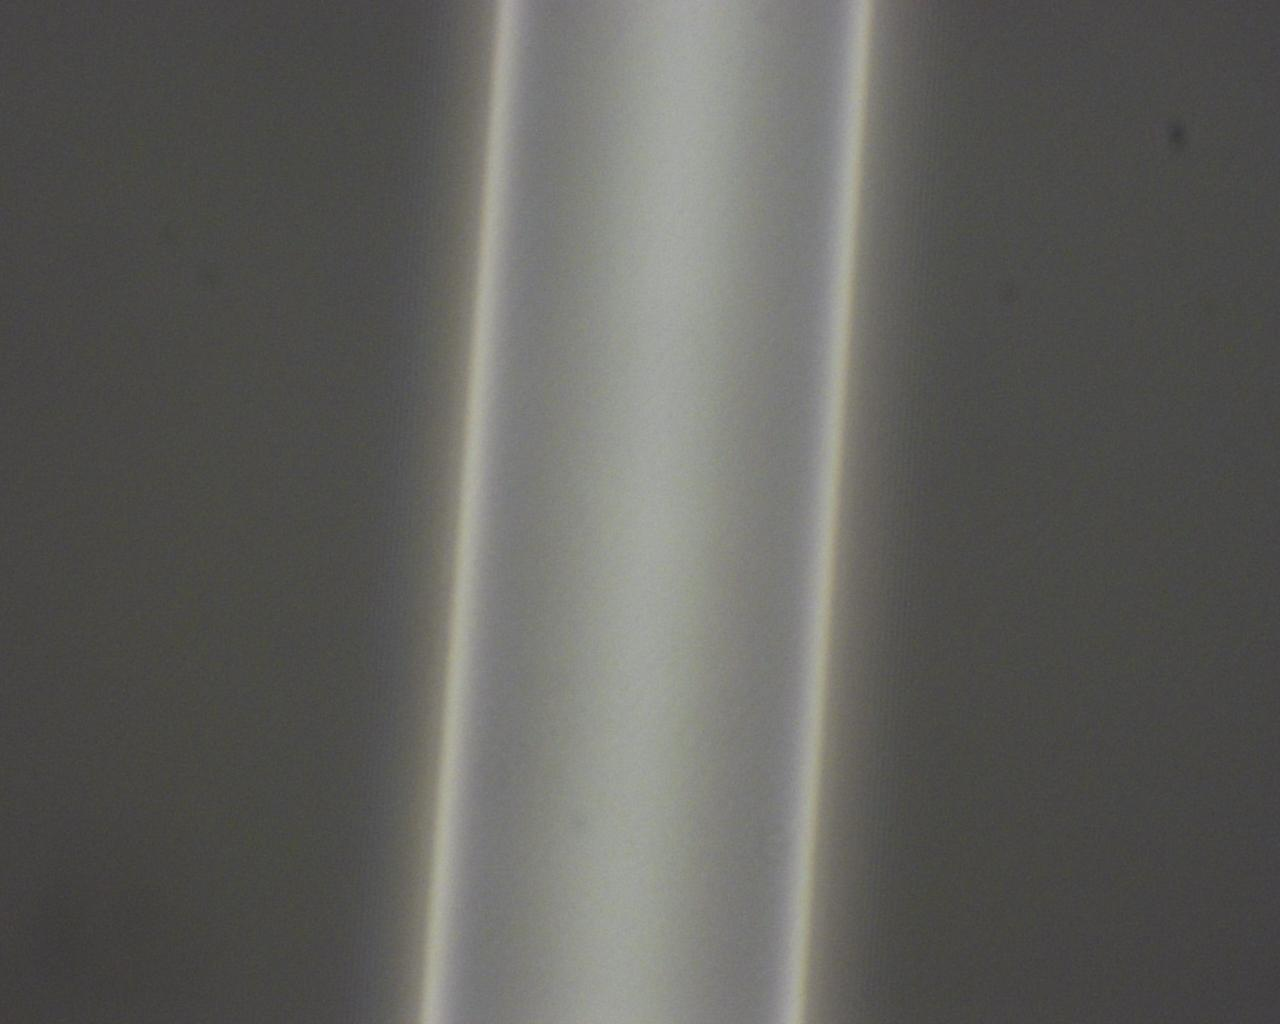fiber: (128, 504, 1152, 750)
